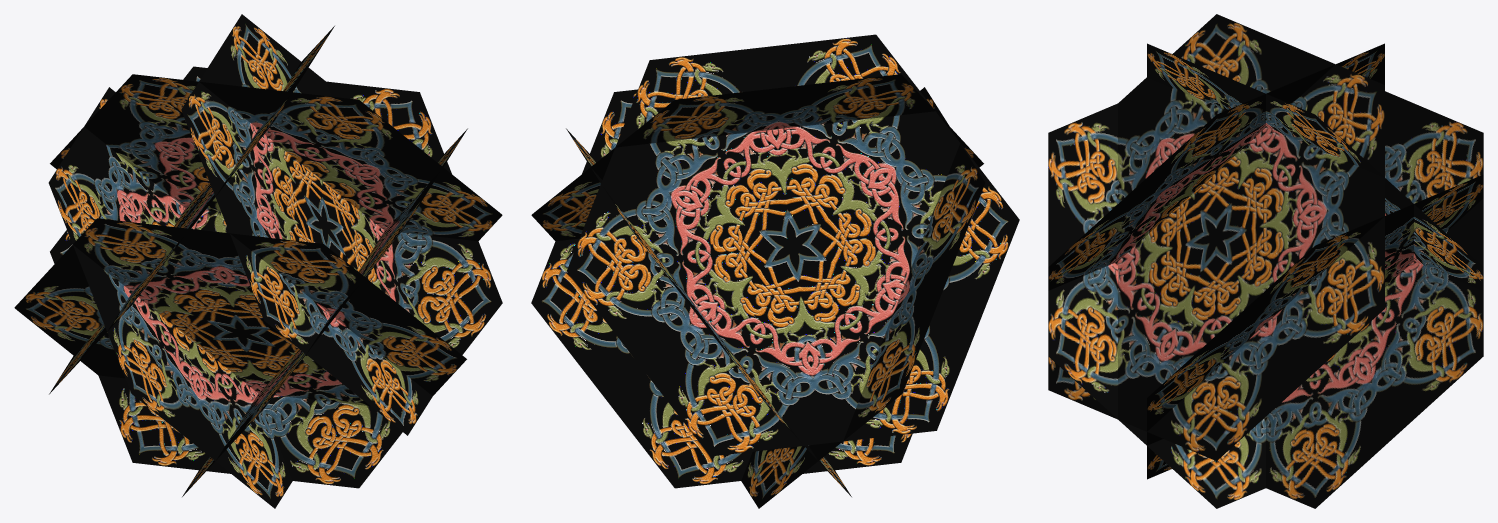
File: GreatTruncatedCuboctahedron.gltf
The picture shows the model from 3 angles, left to right: view 1: azimuth 30°, elevation 25°; view 2: azimuth 150°, elevation 25°; view 3: azimuth 270°, elevation 25°; orthographic projection.
Parts seen in each view (by area): view 1: GreatTruncatedCuboctahedron; view 2: GreatTruncatedCuboctahedron; view 3: GreatTruncatedCuboctahedron.
Part boxes in pixels (x1=…): GreatTruncatedCuboctahedron: x1=14, y1=14, x2=502, y2=508; GreatTruncatedCuboctahedron: x1=531, y1=34, x2=1019, y2=508; GreatTruncatedCuboctahedron: x1=1048, y1=14, x2=1483, y2=508.
Size of the model in its own units: 1.83 by 1.83 by 1.83.
1 material, 1 textured.
